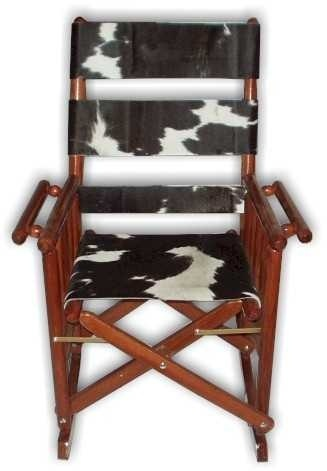obstacle: (12, 17, 311, 461)
